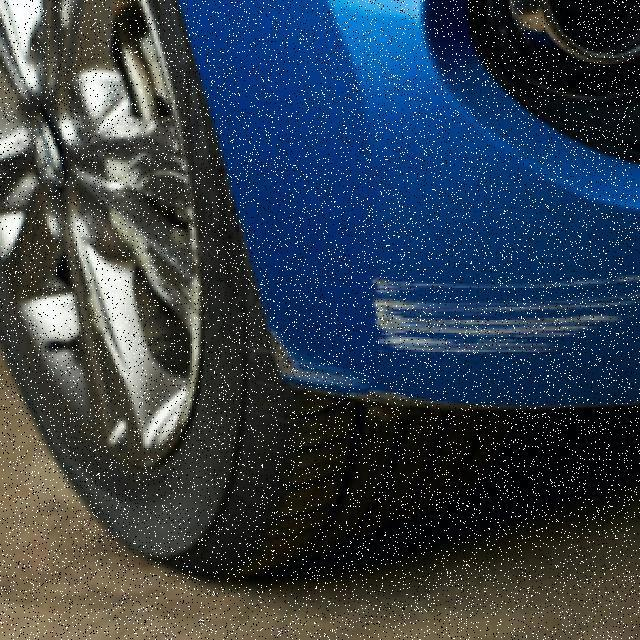front-bumper-dent: (211, 2, 638, 418)
